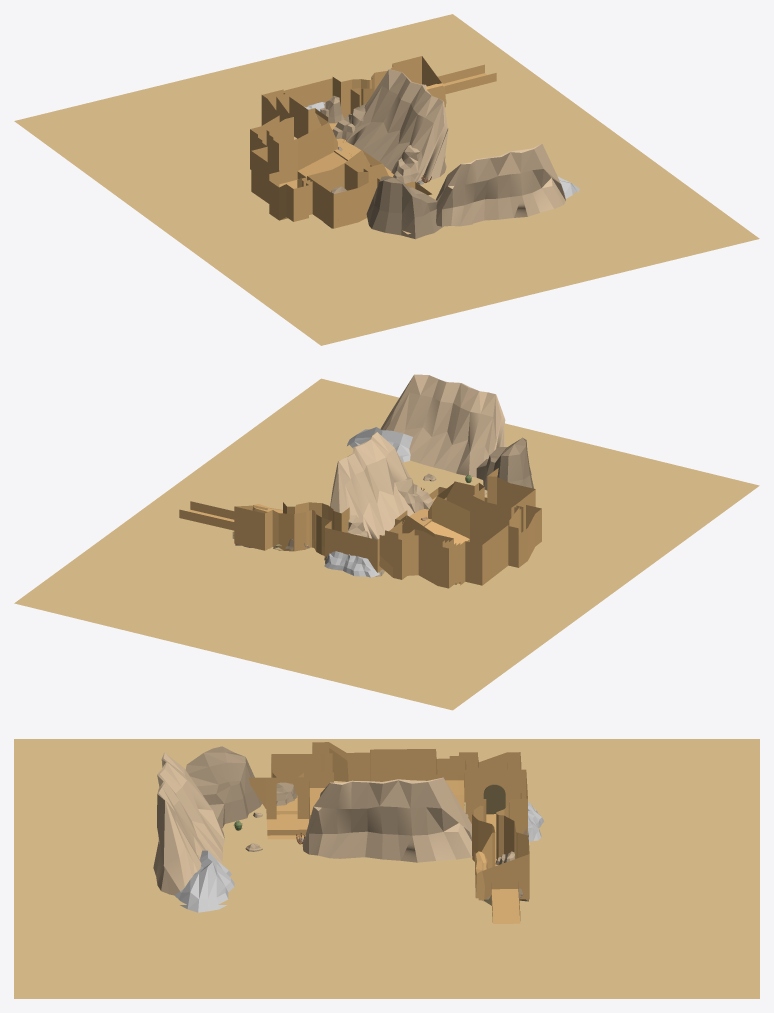
The model's file is RoughDesertMap.fbx.
The picture shows the model from 3 angles, top to bottom: view 1: azimuth 30°, elevation 25°; view 2: azimuth 150°, elevation 25°; view 3: azimuth 270°, elevation 25°; orthographic projection. The views are drawn at different scales.
Visible parts, largest first — view 1: Plane.004, Hill_desert_003.002, Hill_desert_003.001, Cube.021, Cube.020, Cube, Plane, Stone_mid_001.010, Cube.007, Stone_mid_001.009, Stone_mid_001.008; view 2: Plane.004, Hill_desert_003.002, Cube.021, Cube, Hill_desert_003.001, Cube.020, Plane, Stone_mid_001.010, Cube.007, Hill_desert_003, Hill_desert_002, Stone_mid_001.009; view 3: Plane.004, Plane, Hill_desert_003.001, Cube, Hill_desert_003.002, Stone_mid_001.010, Cube.020, Cube.021, Cube.007, Hill_desert_002, Plane.001, Cylinder (+1 smaller).
Part boxes in pixels (x1,y1,x2,y2): Plane.004: (14, 14, 759, 345); Hill_desert_003.002: (436, 143, 565, 226); Hill_desert_003.001: (346, 69, 448, 181); Cube.021: (250, 89, 366, 203); Cube.020: (269, 163, 377, 228); Cube: (283, 56, 496, 138); Plane: (416, 103, 593, 231); Stone_mid_001.010: (366, 176, 443, 239); Cube.007: (315, 108, 432, 195); Stone_mid_001.009: (391, 145, 419, 183); Stone_mid_001.008: (332, 103, 366, 139); Plane.004: (14, 378, 759, 710); Hill_desert_003.002: (380, 374, 505, 477); Cube.021: (379, 496, 509, 588); Cube: (179, 501, 402, 572); Hill_desert_003.001: (330, 432, 413, 539); Cube.020: (473, 476, 541, 567); Plane: (266, 422, 456, 509); Stone_mid_001.010: (476, 437, 533, 490); Cube.007: (395, 468, 498, 526); Hill_desert_003: (324, 551, 379, 577); Hill_desert_002: (347, 427, 412, 462); Stone_mid_001.009: (395, 477, 433, 512); Plane.004: (14, 739, 759, 998); Plane: (144, 839, 478, 904); Hill_desert_003.001: (302, 777, 472, 862); Cube: (464, 769, 529, 923); Hill_desert_003.002: (153, 752, 224, 895); Stone_mid_001.010: (185, 746, 262, 828); Cube.020: (271, 742, 370, 819); Cube.021: (347, 749, 521, 801); Cube.007: (248, 774, 464, 839); Hill_desert_002: (174, 850, 234, 912); Plane.001: (222, 804, 267, 839); Cylinder: (483, 784, 505, 814).
Bounding box in the file's own units: 26544 × 5986 × 32187.
